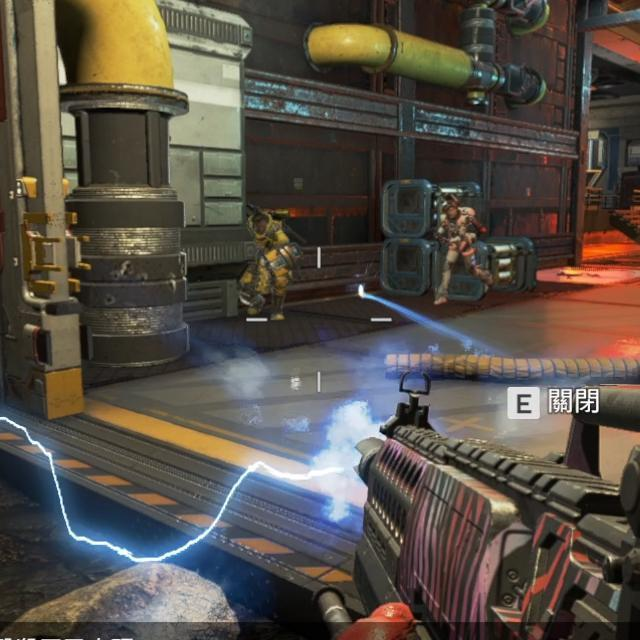avatar: (237, 206, 301, 322), (429, 197, 488, 307)
